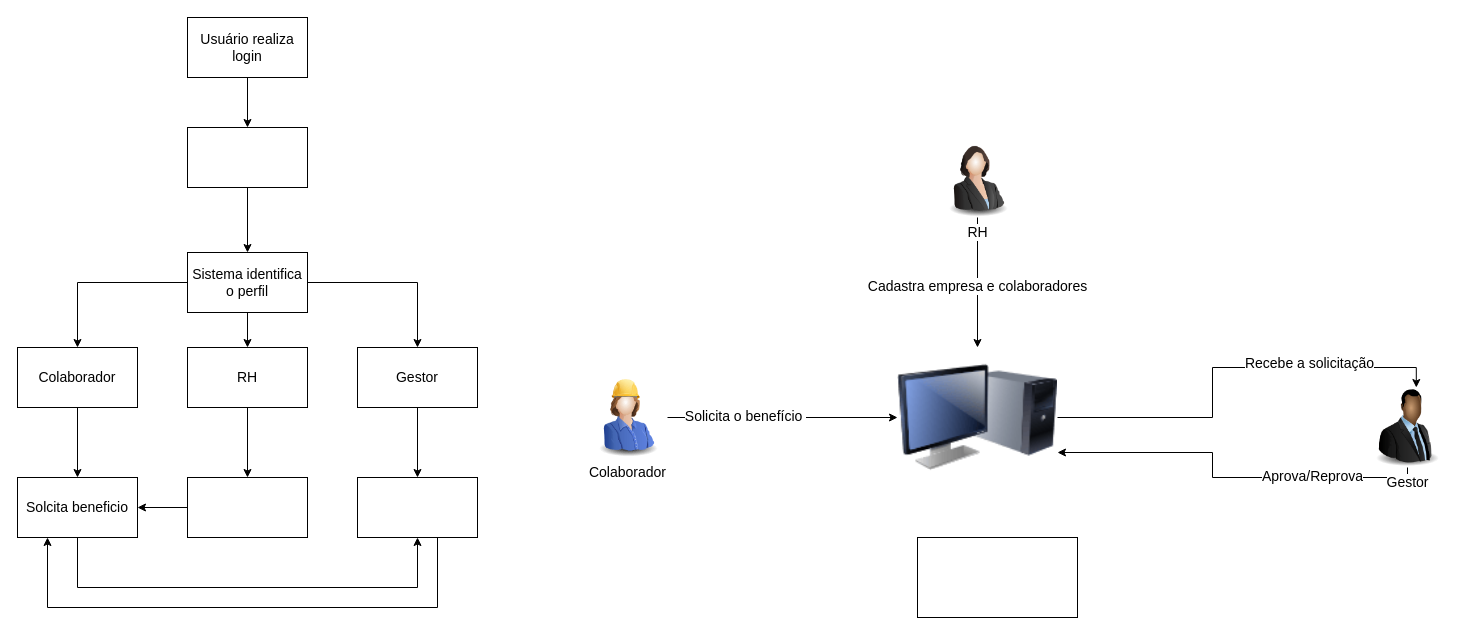
The diagram is 1465 pixels wide and 635 high, and some of its shapes have lost their labels. Here are the shapes that lost their labels. From the top down, the box of each, then its label:
(186, 126, 308, 188): Sistema autentica o usuário
(897, 347, 1057, 487): Sistema de Gestão de Benefícios (BenefitHub)
(186, 476, 308, 538): Cadastra o beneficiario e empresa
(356, 476, 478, 538): Aprova ou reprova solicitções
(916, 536, 1078, 618): Só colaboradores cadastrados podem solicitar benefícios
